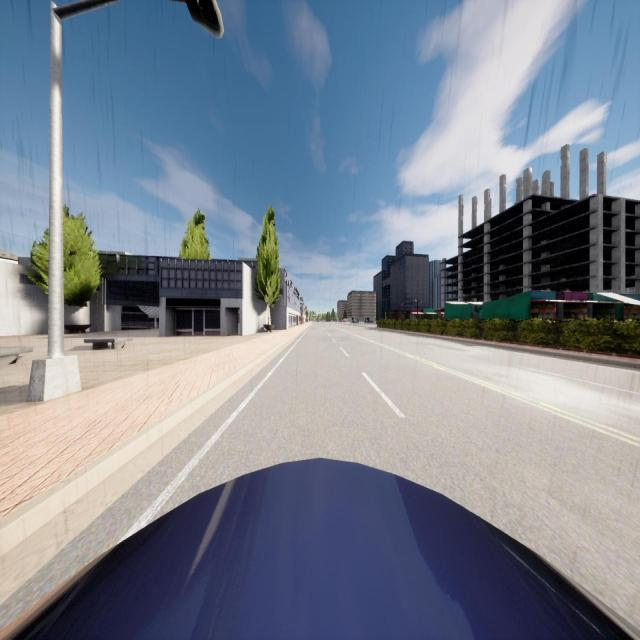Vehicle: (0, 458, 640, 640), (367, 320, 372, 323), (352, 320, 356, 323)
